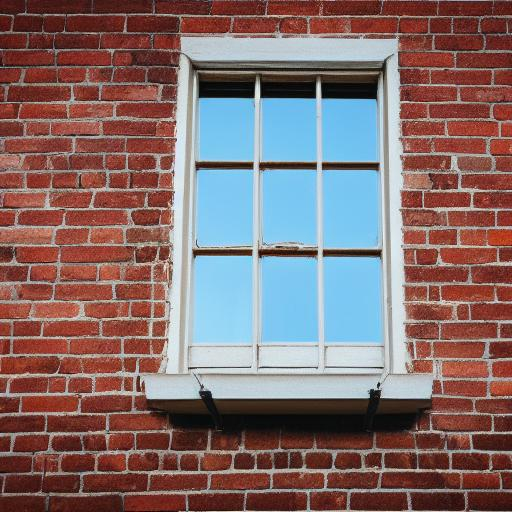Window: (143, 35, 434, 424)
